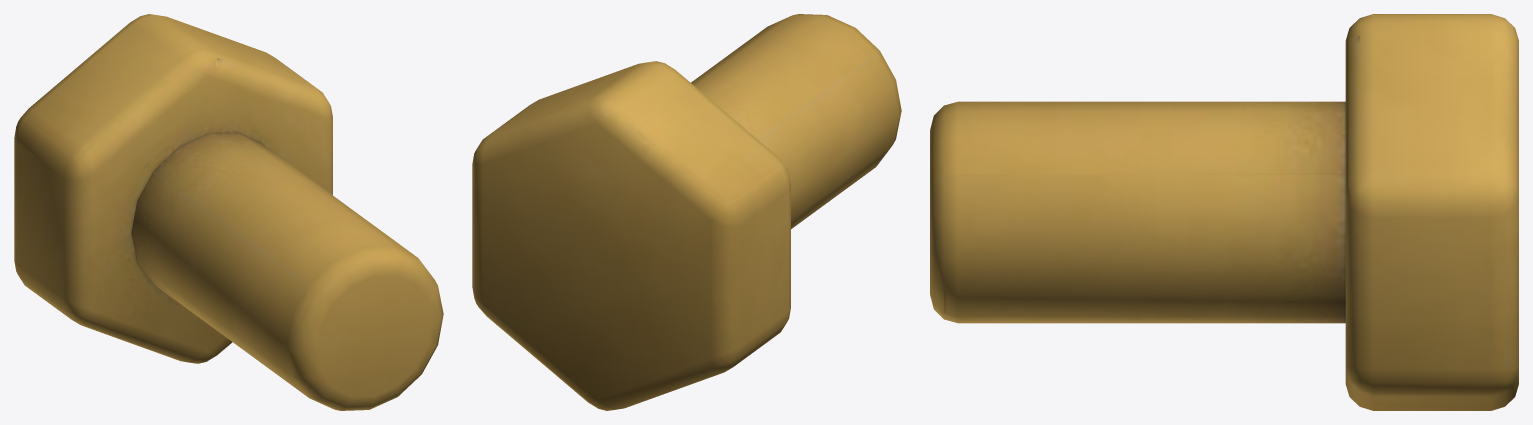
File: terminal.glb
3 views of the same model, side by side, from view 1: azimuth 30°, elevation 25°; view 2: azimuth 150°, elevation 25°; view 3: azimuth 270°, elevation 25° (orthographic). The views are drawn at different scales.
Visible parts, largest first — view 1: terminal; view 2: terminal; view 3: terminal.
Part boxes in pixels (box(x1,y1,x2,y2)): terminal: box(14, 14, 443, 410); terminal: box(472, 14, 901, 410); terminal: box(930, 14, 1518, 410).
Bounding box in the file's own units: 0.0554 × 0.0617 × 0.085.
1 material, 1 textured.
